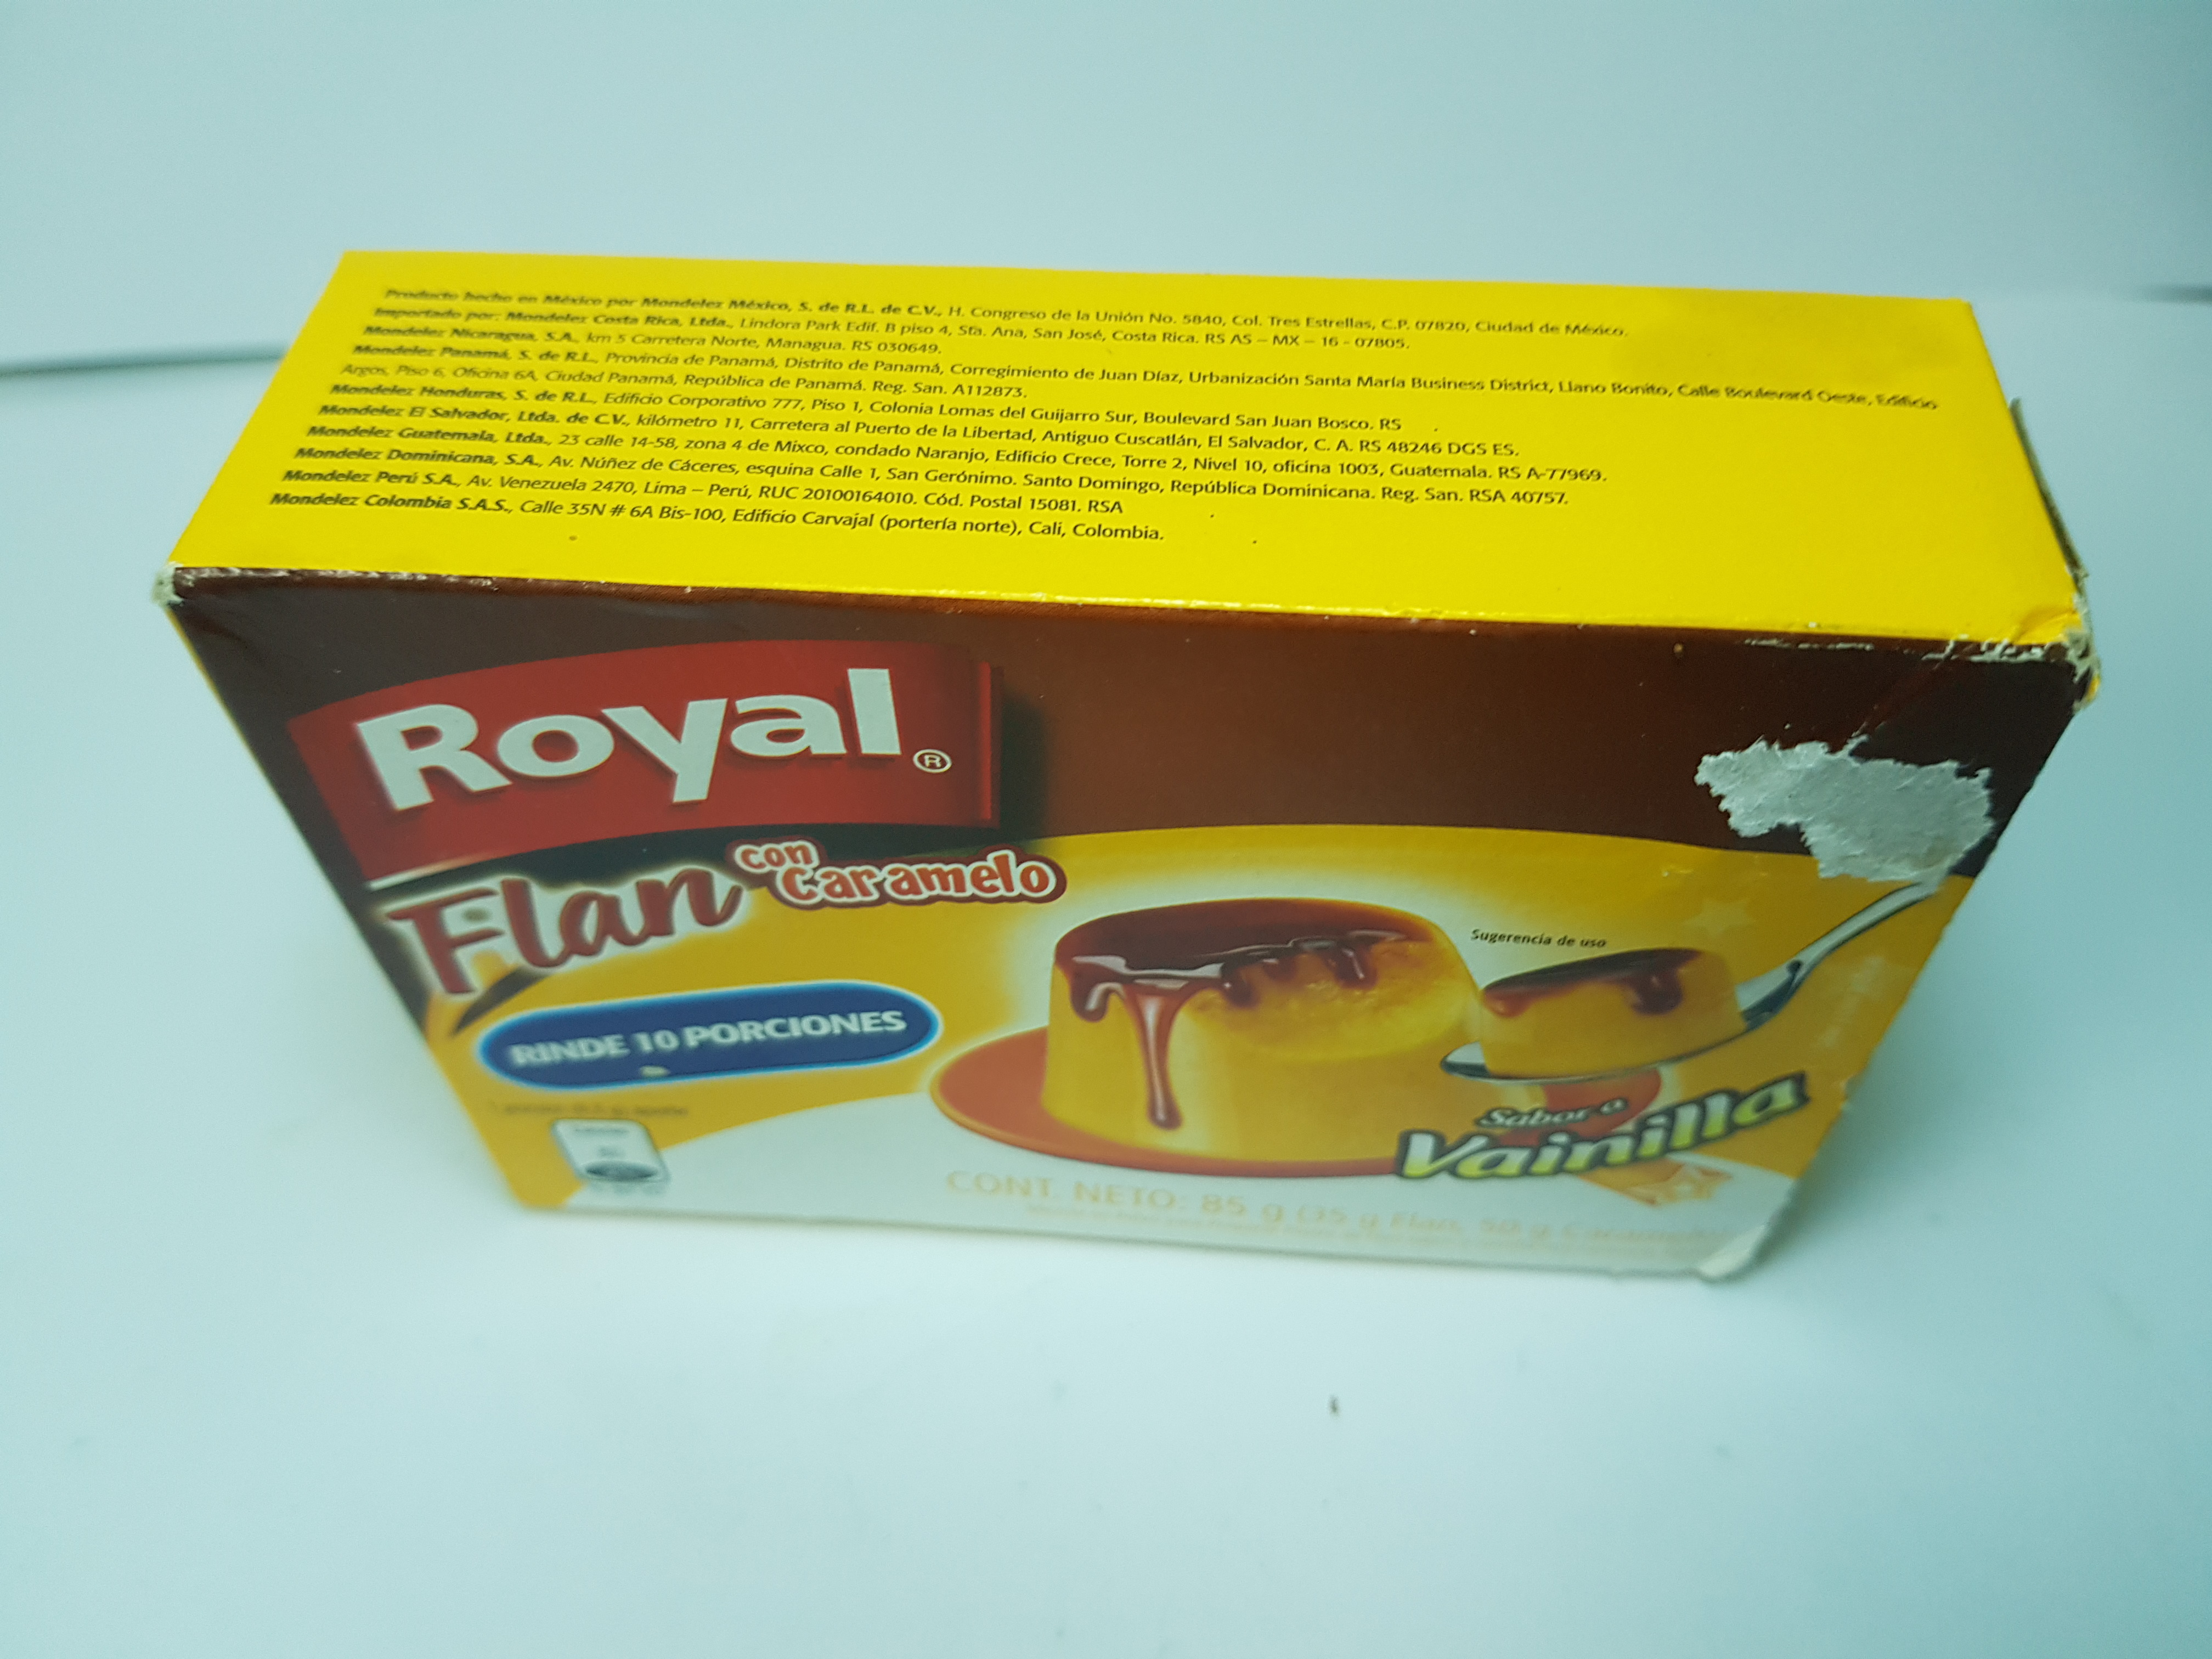flan: (155, 239, 2076, 1288)
